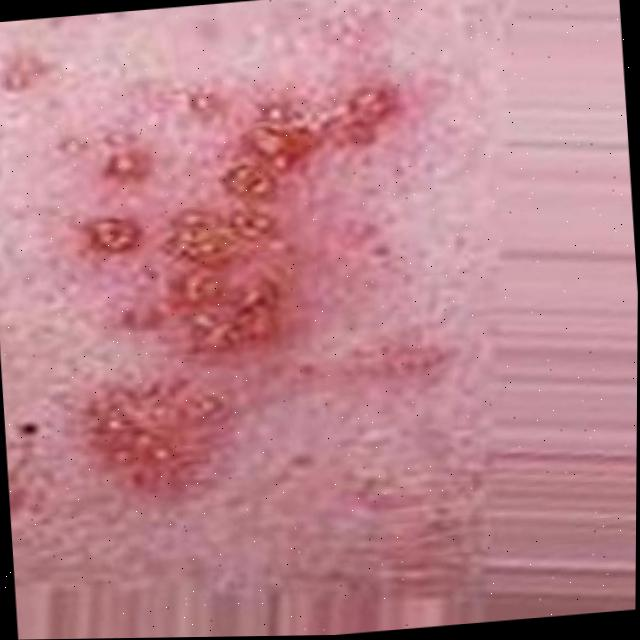Shingles: (45, 56, 431, 514)
